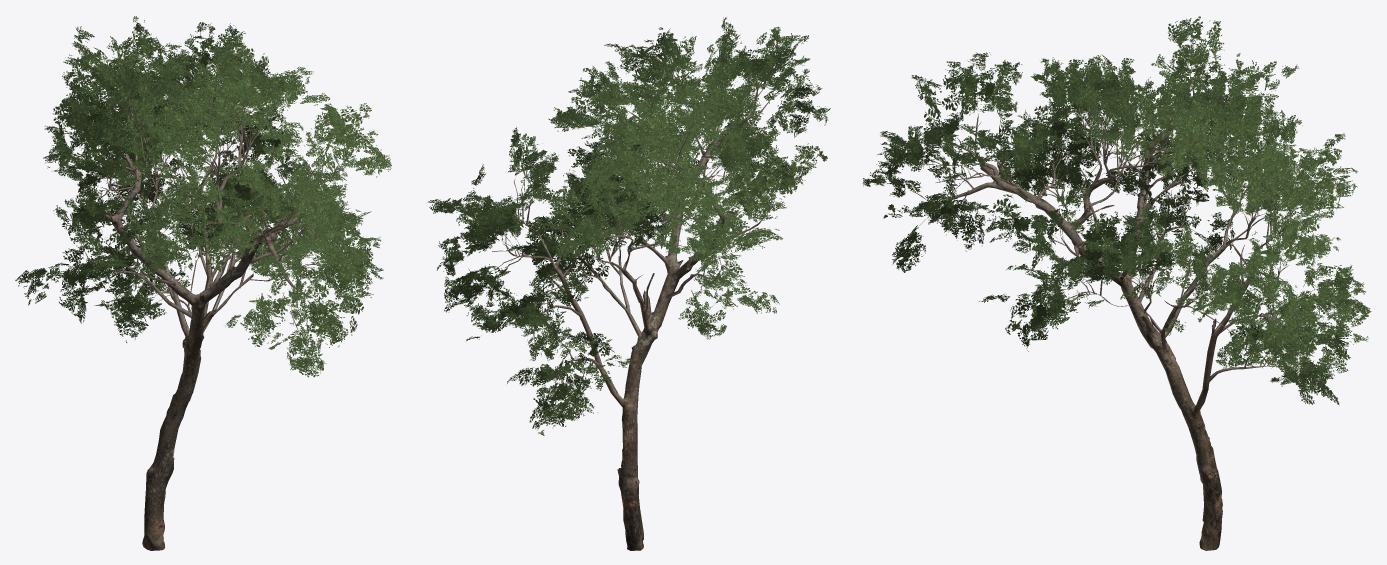
Rendered from broadleaf.glb.
The picture shows the model from 3 angles, left to right: view 1: azimuth 30°, elevation 25°; view 2: azimuth 150°, elevation 25°; view 3: azimuth 270°, elevation 25°; orthographic projection. The views are drawn at different scales.
Visible parts, largest first — view 1: tree_small_02_LOD0; view 2: tree_small_02_LOD0; view 3: tree_small_02_LOD0.
Part boxes in pixels (x1,y1,x2,y2): tree_small_02_LOD0: (15,16,391,550); tree_small_02_LOD0: (428,17,830,550); tree_small_02_LOD0: (862,16,1371,550).
Size of the model in its own units: 2.97 by 4.59 by 4.29.
3 materials, 3 textured.
